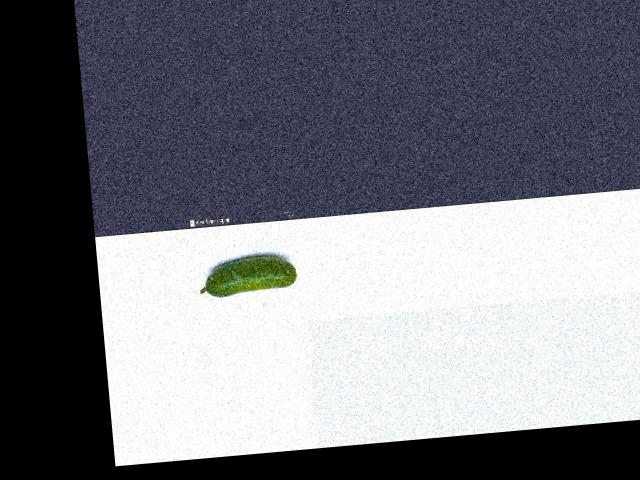cucumber: (197, 253, 299, 298)
